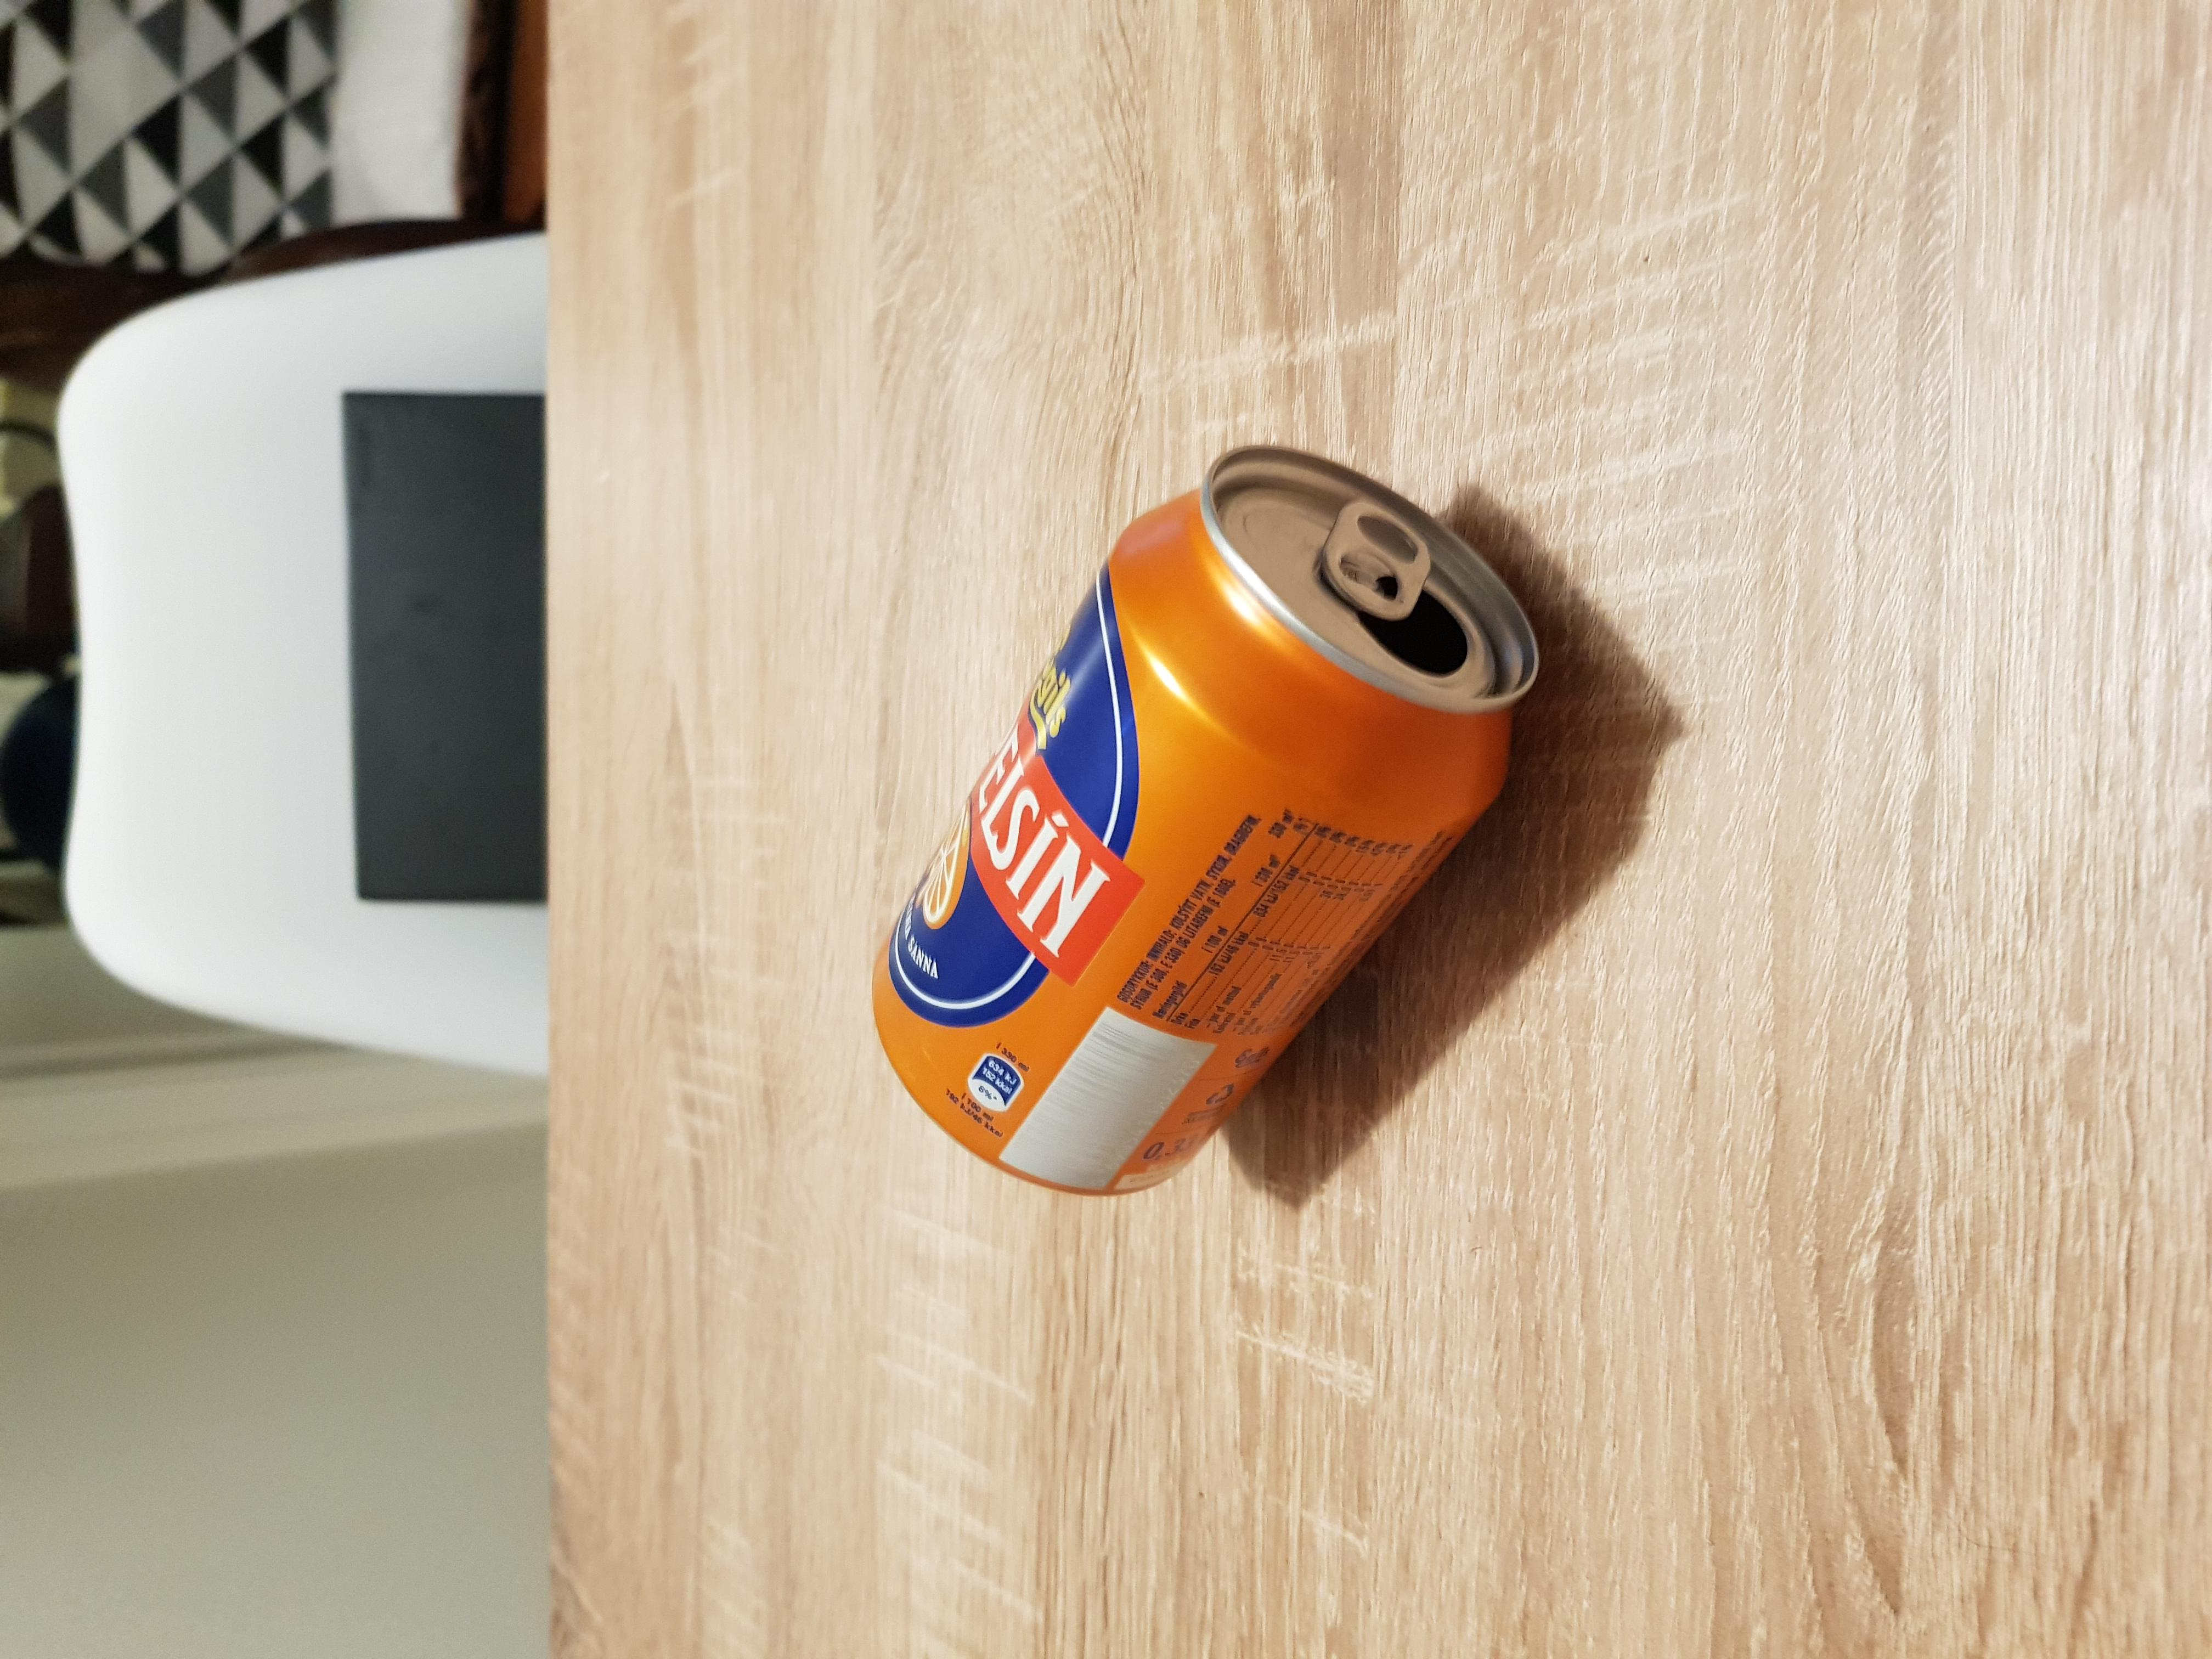can: (864, 436, 1547, 1195)
